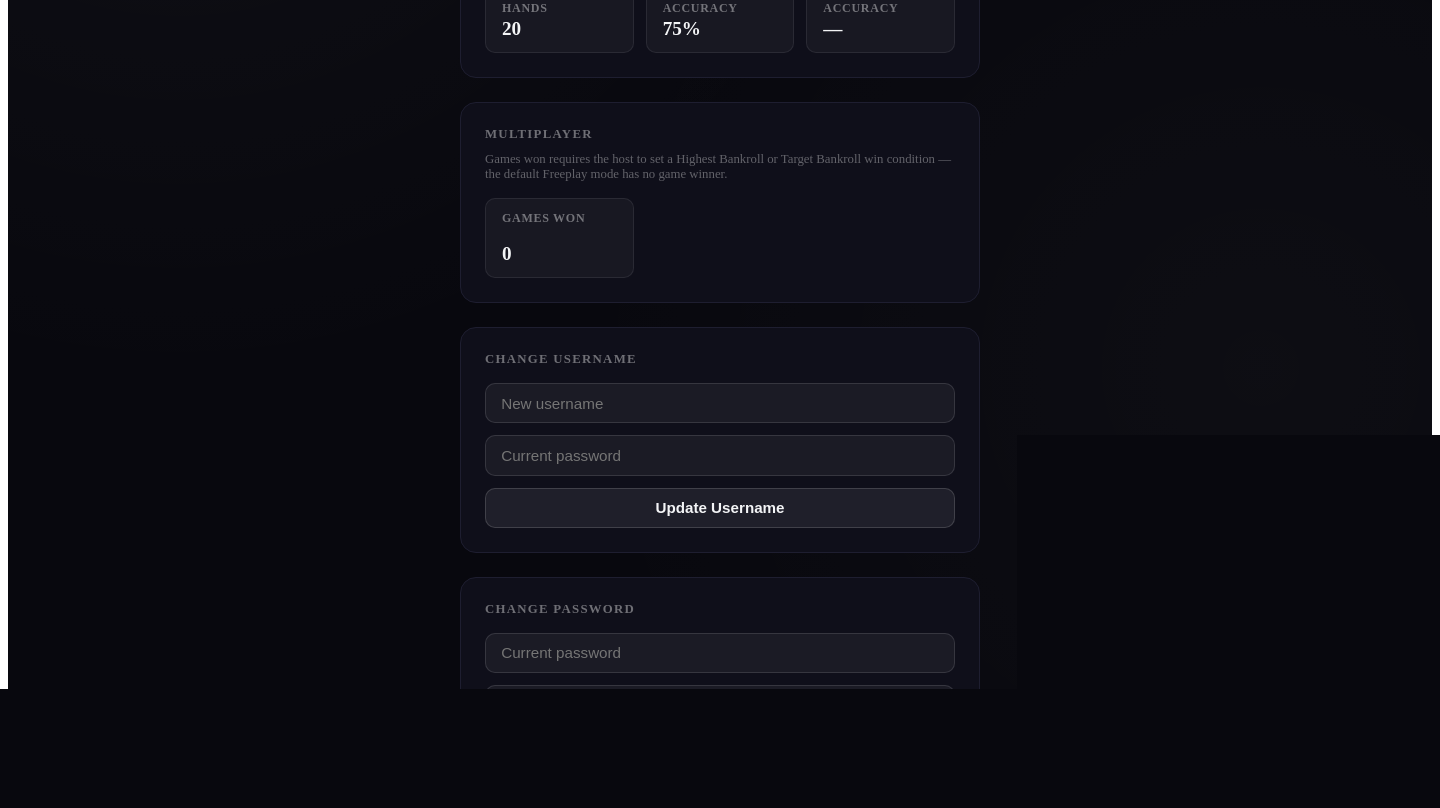
Test: ACCOUNT: CHANGE USERNAME — ProfilePage component › username already taken → error shown
The image size is (1440, 808).
(page scrolled)
Type "bob" into the field with placeholder "New username" at (720, 403), box [485, 383, 955, 423]
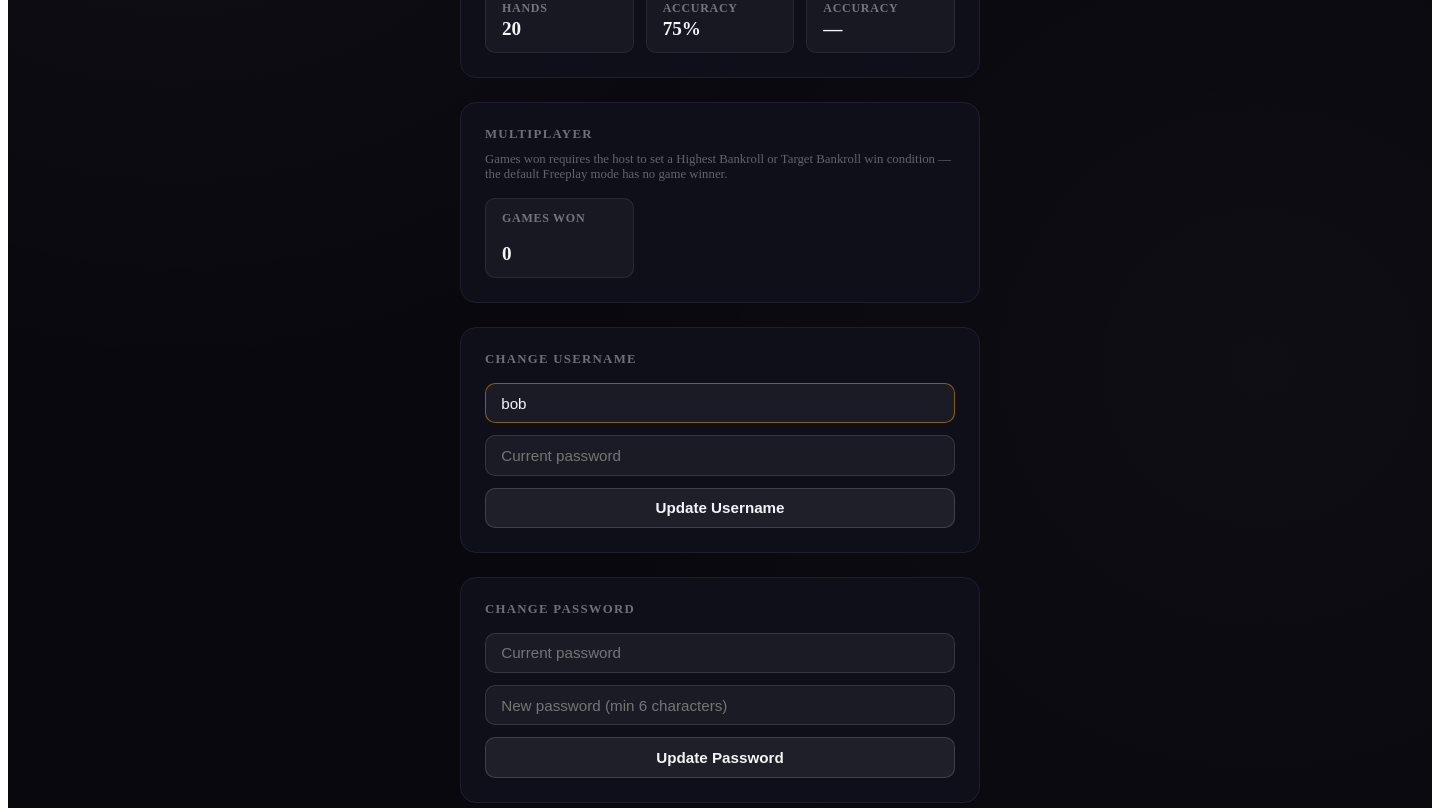
Type "secret" into the password field with placeholder "Current password" below "Change Username" at (720, 455), box [485, 435, 955, 476]
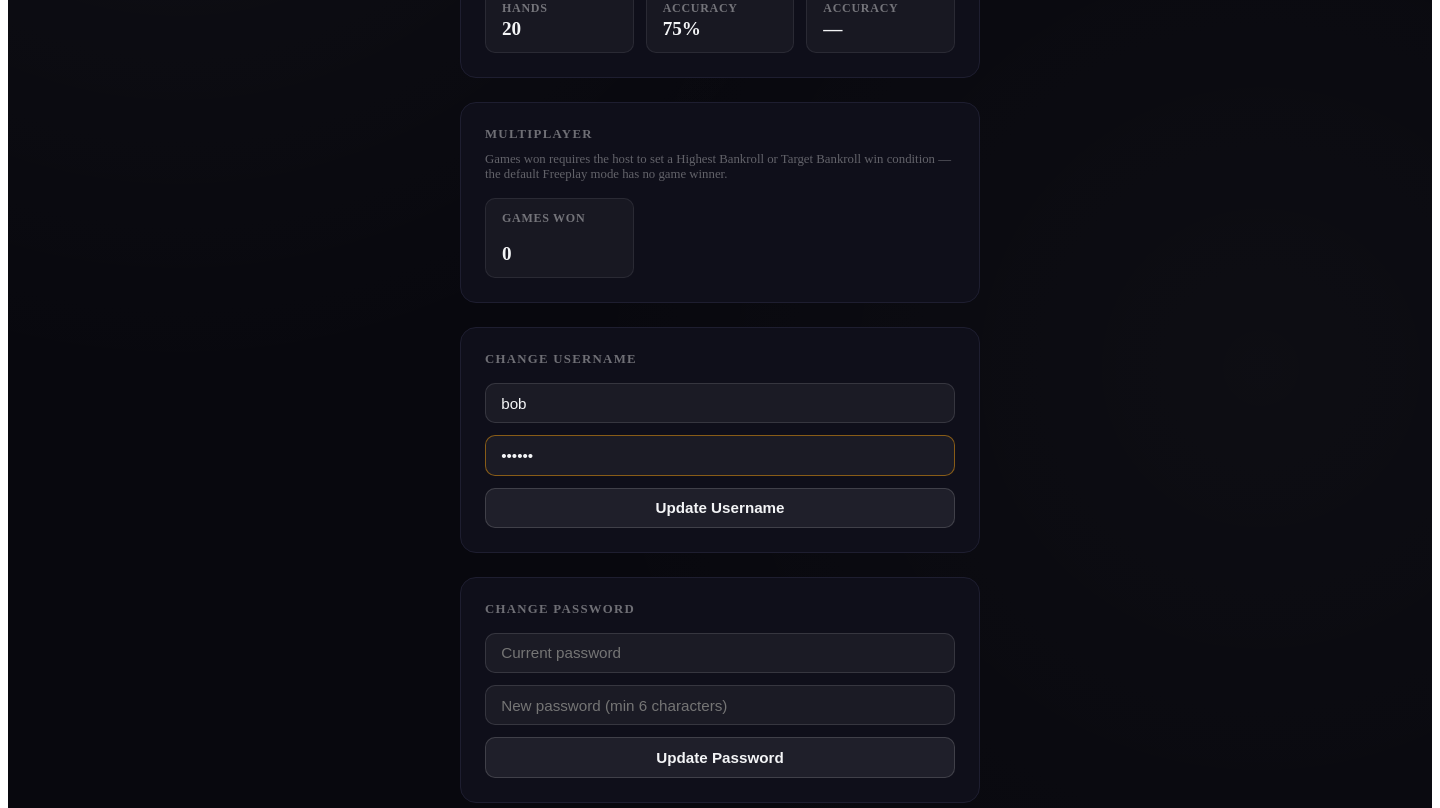
Click the button "Update Username" at (720, 508), box [485, 488, 955, 528]
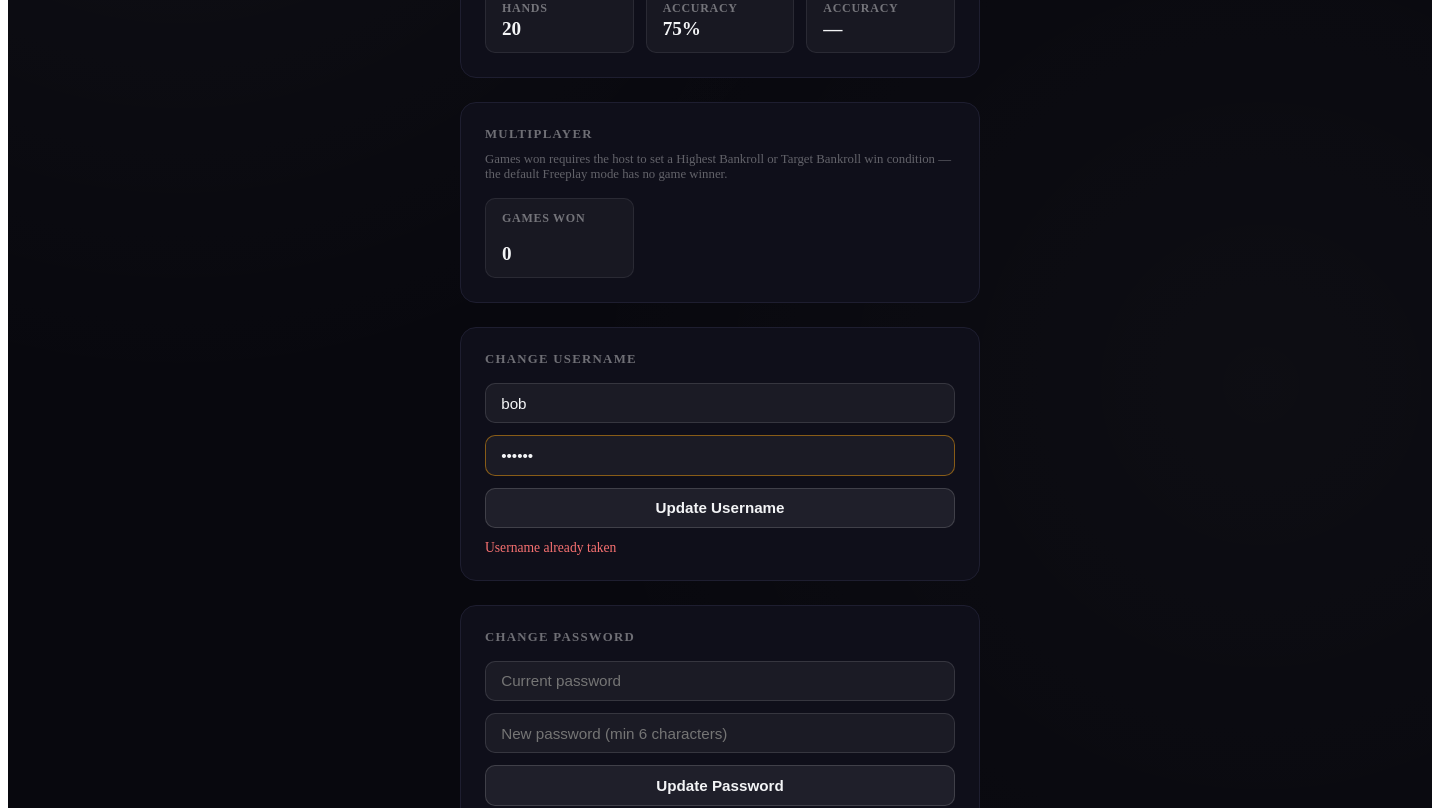
Now the text "Username already taken" is shown, box [485, 540, 616, 555]
